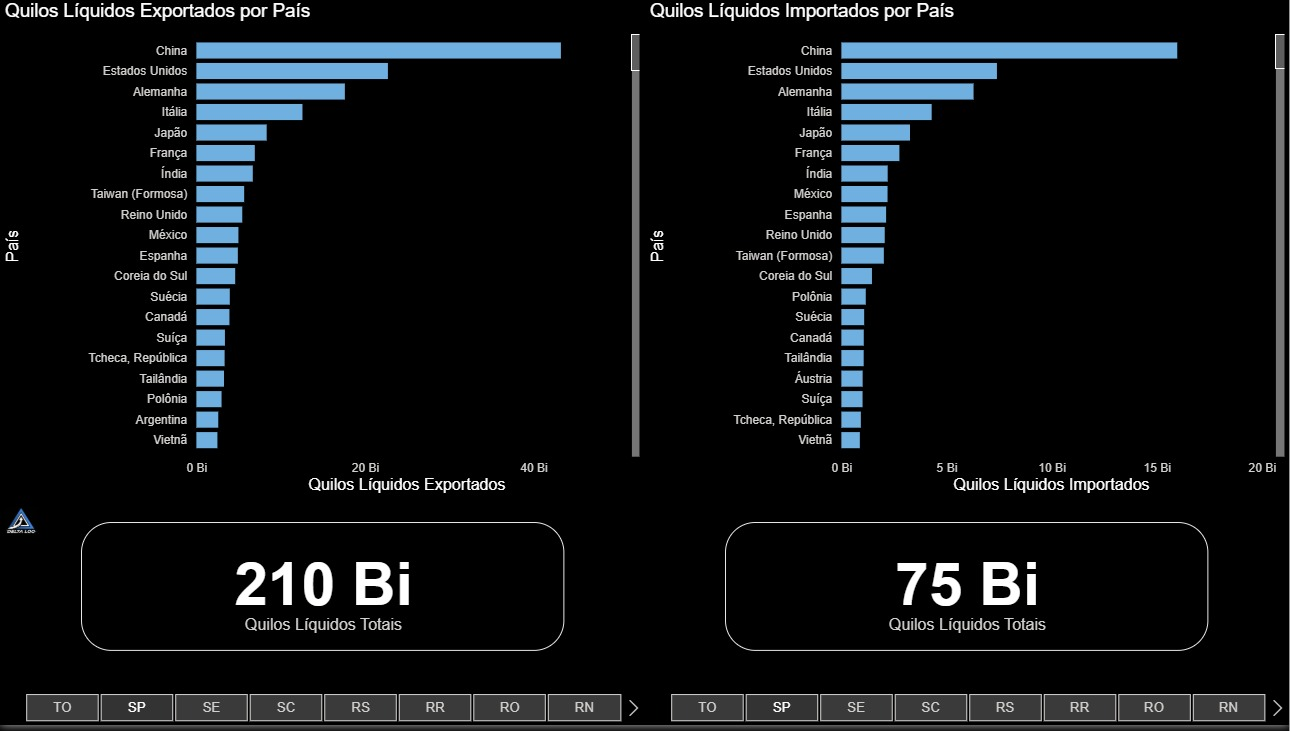

The dashboard page shown, as its layout file describes it:
{"tool":"powerbi","page":{"name":"Países","canvas":[1280,720],"ordinal":3},"visuals":[{"type":"barChart","title":"EXPORTAÇÃO URF","fields":{"Y":["Sum(exp_final (2).QT_ESTAT)"],"Category":["exp_final (2).NO_PAIS"]},"box":[0,360,640.6,276.4],"z":0},{"type":"image","box":[0,659.1,78,60.9],"z":1000},{"type":"barChart","title":"IMPORTAÇÃO URF","fields":{"Category":["imp_final.NO_PAIS"],"Y":["CountNonNull(imp_final.QT_ESTAT)"]},"box":[639.2,83.6,640.6,276.4],"z":2000},{"type":"cardVisual","fields":{"Rows":["exp_final (2).NO_PAIS"],"Data":["Sum(exp_final (2).QT_ESTAT)"]},"box":[0,84,639,276],"z":3000},{"type":"cardVisual","fields":{"Rows":["imp_final.NO_PAIS"],"Data":["CountNonNull(imp_final.QT_ESTAT)"]},"box":[641,360,639,276],"z":4000}]}

Visuals, with their boxes in screenshot pixels (x1, y1, x2, y2), scaled from the page's 1280x720 canvas onto the 1290x731 screenshot:
"EXPORTAÇÃO URF" barChart: {"x1": 0, "y1": 366, "x2": 646, "y2": 646}
image: {"x1": 0, "y1": 669, "x2": 79, "y2": 730}
"IMPORTAÇÃO URF" barChart: {"x1": 644, "y1": 85, "x2": 1289, "y2": 366}
cardVisual - exp_final (2).NO_PAIS x Sum(exp_final (2).QT_ESTAT): {"x1": 0, "y1": 85, "x2": 644, "y2": 366}
cardVisual - imp_final.NO_PAIS x CountNonNull(imp_final.QT_ESTAT): {"x1": 646, "y1": 366, "x2": 1289, "y2": 646}
